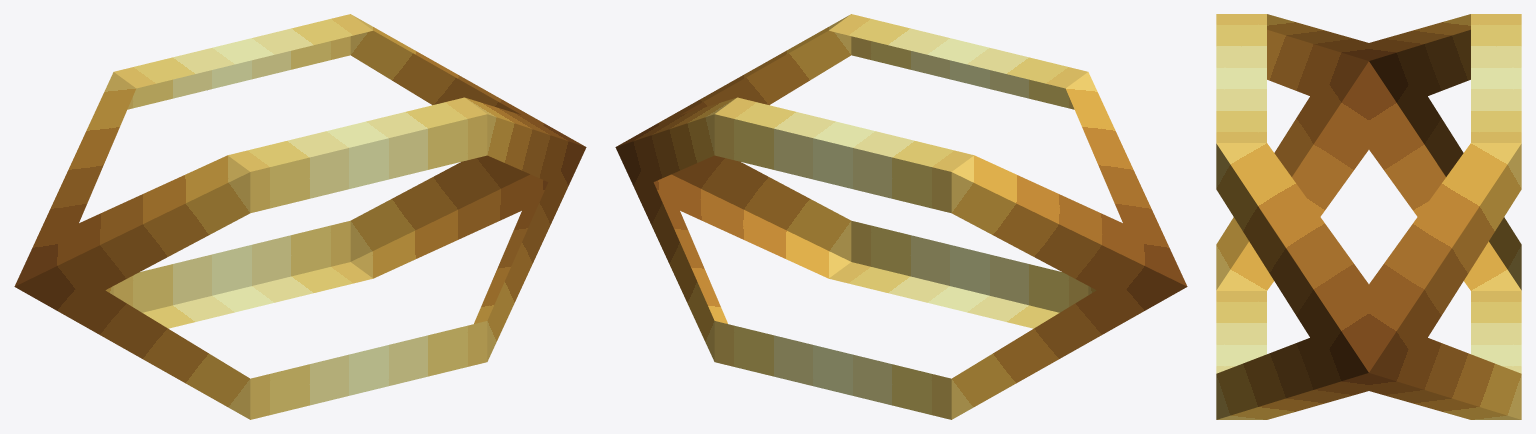
The model's file is occulus_eye_shell.obj.
3 views of the same model, side by side, from view 1: azimuth 30°, elevation 25°; view 2: azimuth 150°, elevation 25°; view 3: azimuth 270°, elevation 25° (orthographic). The views are drawn at different scales.
Parts seen in each view (by area): view 1: OCCULUS_EYESHELL; view 2: OCCULUS_EYESHELL; view 3: OCCULUS_EYESHELL.
Boxes of the visible parts, x1=… form: OCCULUS_EYESHELL: x1=14, y1=14, x2=586, y2=419; OCCULUS_EYESHELL: x1=615, y1=14, x2=1187, y2=419; OCCULUS_EYESHELL: x1=1216, y1=14, x2=1521, y2=419.
Bounding box in the file's own units: 0.9053 × 0.375 × 0.375.
